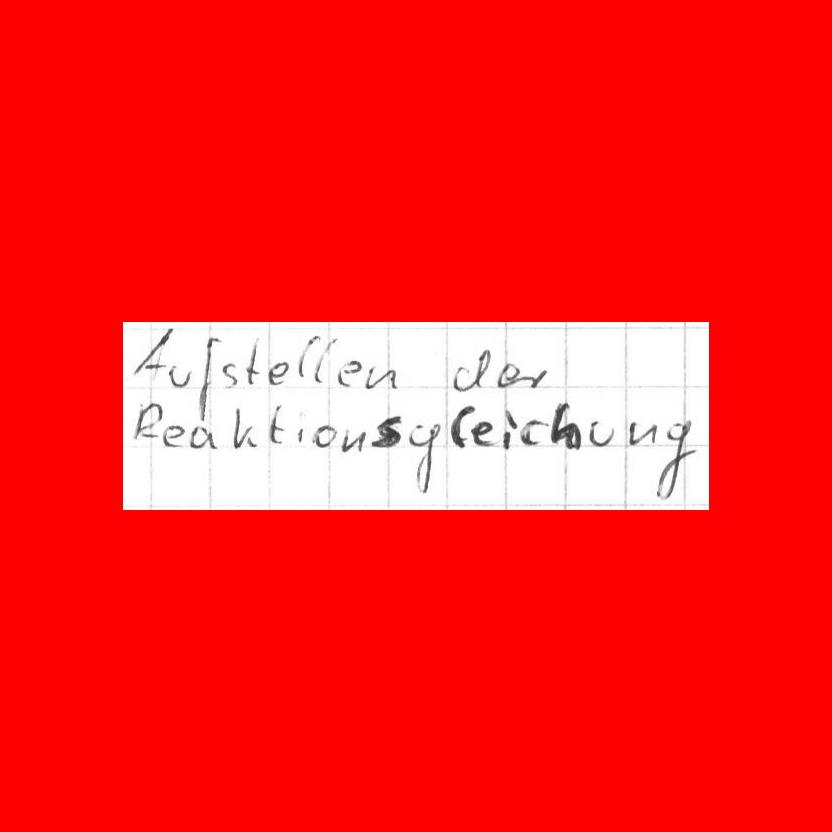Char: (653, 422, 696, 500), (408, 422, 442, 494), (193, 336, 221, 420), (130, 328, 171, 381), (448, 349, 493, 395), (550, 399, 581, 451), (230, 405, 259, 451), (132, 402, 161, 442), (314, 336, 338, 384), (371, 415, 402, 450), (448, 403, 471, 449), (266, 402, 288, 445), (587, 417, 614, 450), (519, 417, 547, 448), (244, 338, 262, 385), (628, 419, 658, 447), (366, 364, 396, 390), (339, 427, 366, 455), (294, 335, 311, 378), (190, 423, 218, 449), (496, 362, 522, 389), (499, 408, 516, 449), (471, 418, 495, 447), (338, 357, 360, 387), (167, 363, 192, 389), (524, 366, 549, 390), (312, 425, 336, 449), (267, 359, 289, 385), (221, 361, 240, 391), (163, 423, 185, 445), (295, 423, 307, 443)
